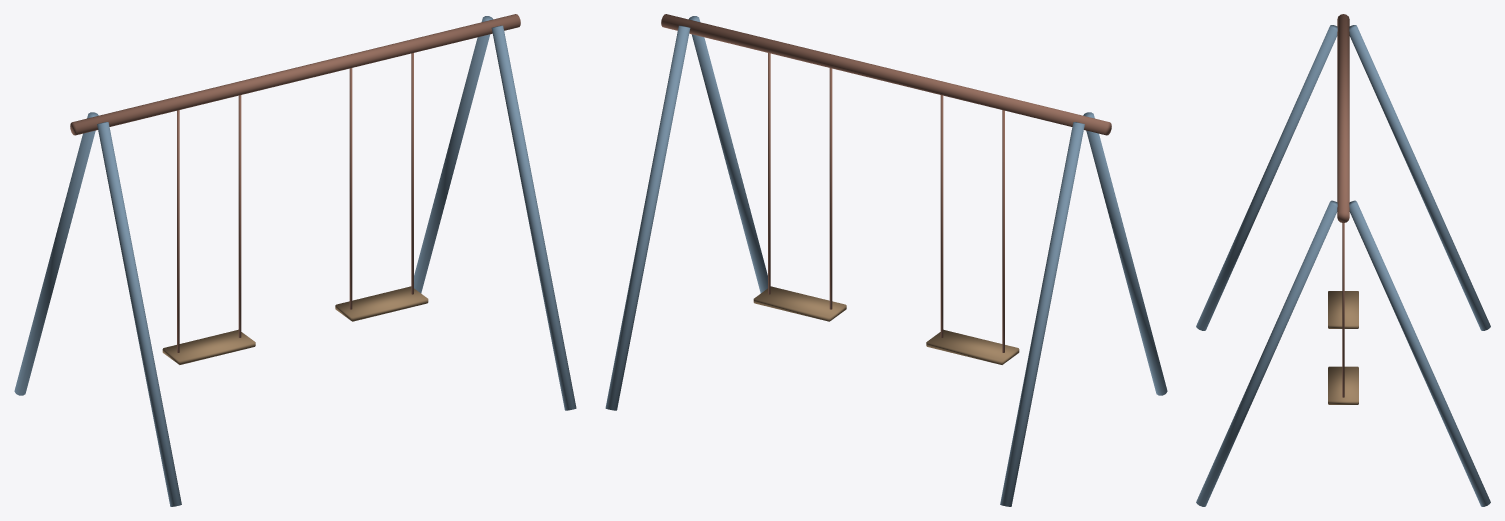
Rendered from playground_swing.glb.
The picture shows the model from 3 angles, left to right: view 1: azimuth 30°, elevation 25°; view 2: azimuth 150°, elevation 25°; view 3: azimuth 270°, elevation 25°; orthographic projection. The views are drawn at different scales.
Parts seen in each view (by area): view 1: TopCrossbar, LegF_1.6, LegF_-1.6, LegB_-1.6, LegB_1.6, SeatBoard, SeatStatic, ChainL_-0.45, ChainM_-0.25, ChainL_-0.95, ChainM_0.25; view 2: TopCrossbar, LegB_1.6, LegB_-1.6, LegF_-1.6, LegF_1.6, SeatBoard, SeatStatic, ChainL_-0.45, ChainM_-0.25, ChainL_-0.95, ChainM_0.25; view 3: LegB_1.6, LegB_-1.6, LegF_1.6, LegF_-1.6, TopCrossbar, SeatBoard, SeatStatic, ChainM_0.25.
Part boxes in pixels (left/top/right/bottom): TopCrossbar: left=70, top=14, right=520, bottom=135; LegF_1.6: left=491, top=25, right=576, bottom=410; LegF_-1.6: left=97, top=122, right=181, bottom=506; LegB_-1.6: left=14, top=112, right=98, bottom=395; LegB_1.6: left=414, top=16, right=493, bottom=293; SeatBoard: left=335, top=286, right=428, bottom=321; SeatStatic: left=162, top=329, right=255, bottom=364; ChainL_-0.45: left=238, top=95, right=241, bottom=337; ChainM_-0.25: left=349, top=68, right=352, bottom=309; ChainL_-0.95: left=177, top=110, right=179, bottom=352; ChainM_0.25: left=411, top=53, right=413, bottom=294; TopCrossbar: left=661, top=14, right=1111, bottom=135; LegB_1.6: left=605, top=25, right=690, bottom=410; LegB_-1.6: left=1000, top=122, right=1084, bottom=506; LegF_-1.6: left=1083, top=112, right=1167, bottom=395; LegF_1.6: left=688, top=16, right=767, bottom=293; SeatBoard: left=753, top=286, right=846, bottom=321; SeatStatic: left=926, top=329, right=1019, bottom=364; ChainL_-0.45: left=940, top=95, right=943, bottom=337; ChainM_-0.25: left=829, top=68, right=832, bottom=309; ChainL_-0.95: left=1002, top=110, right=1004, bottom=352; ChainM_0.25: left=768, top=53, right=770, bottom=294; LegB_1.6: left=1349, top=200, right=1490, bottom=506; LegB_-1.6: left=1349, top=25, right=1490, bottom=330; LegF_1.6: left=1196, top=200, right=1337, bottom=506; LegF_-1.6: left=1196, top=25, right=1337, bottom=330; TopCrossbar: left=1337, top=14, right=1349, bottom=222; SeatBoard: left=1328, top=366, right=1358, bottom=404; SeatStatic: left=1328, top=291, right=1358, bottom=328; ChainM_0.25: left=1342, top=223, right=1344, bottom=397.
Bounding box in the file's own units: 3.6 × 2.59 × 2.27.
